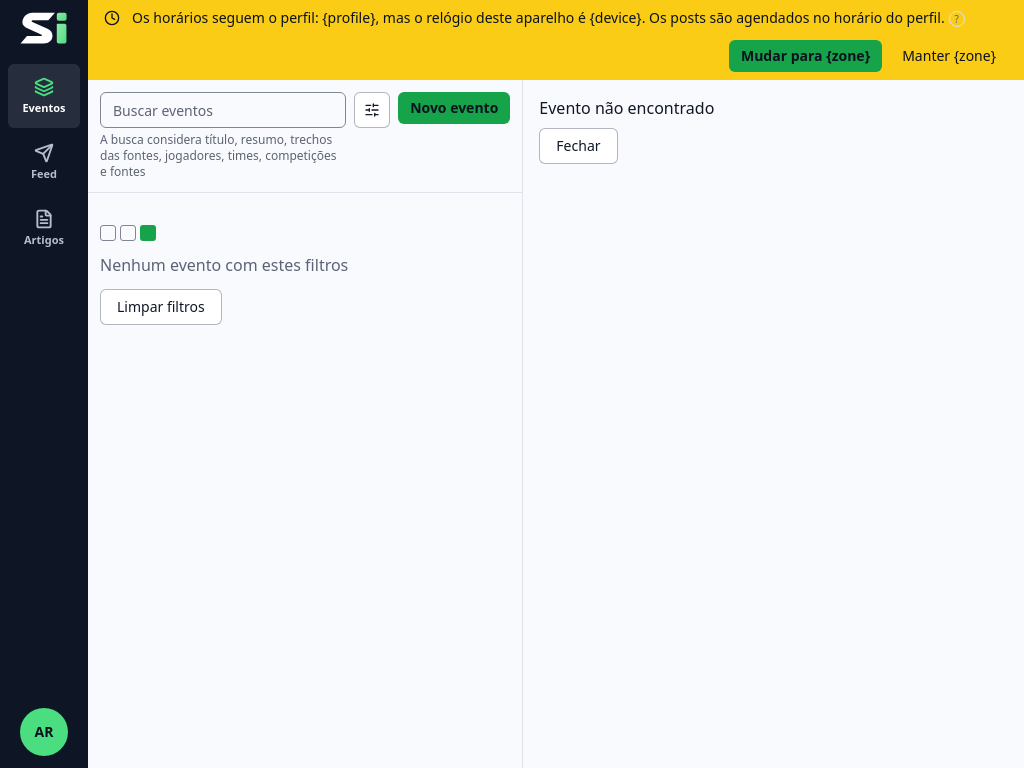
404 shows not found and close clears ?event
Click the button "Fechar" at (578, 146), box x1=539 y1=128 x2=618 y2=164
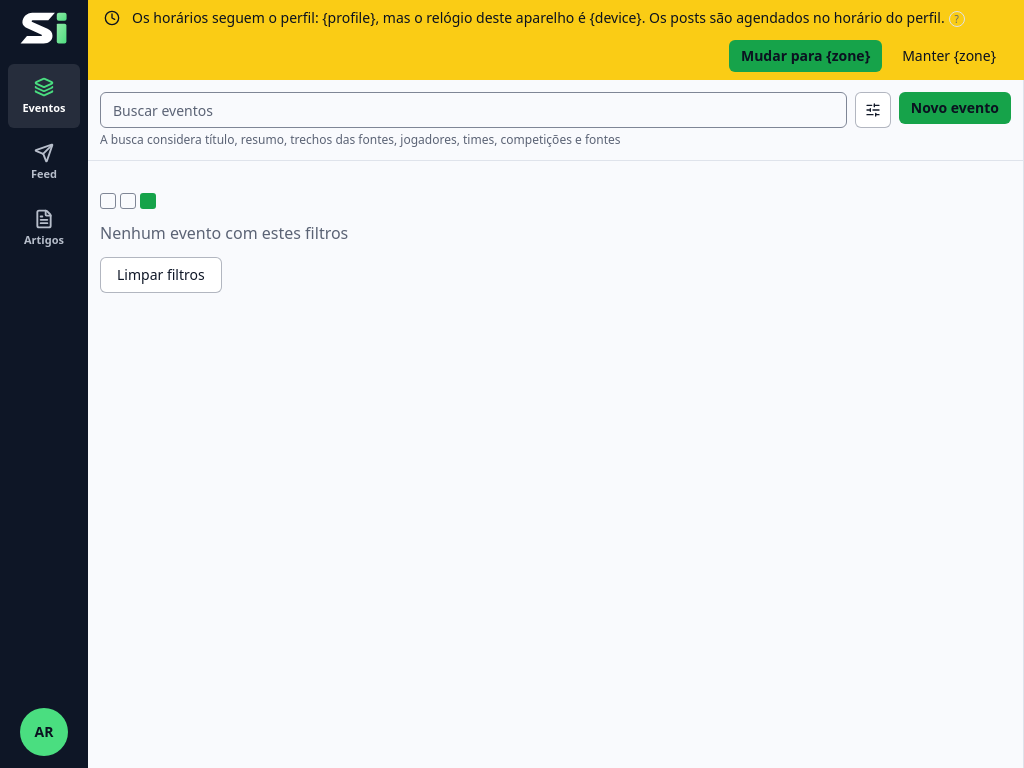
Result: the button "Fechar" is gone
